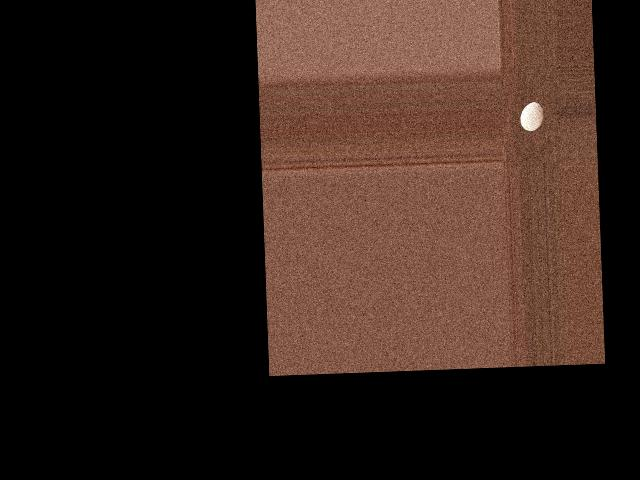egg: (520, 101, 543, 131)
